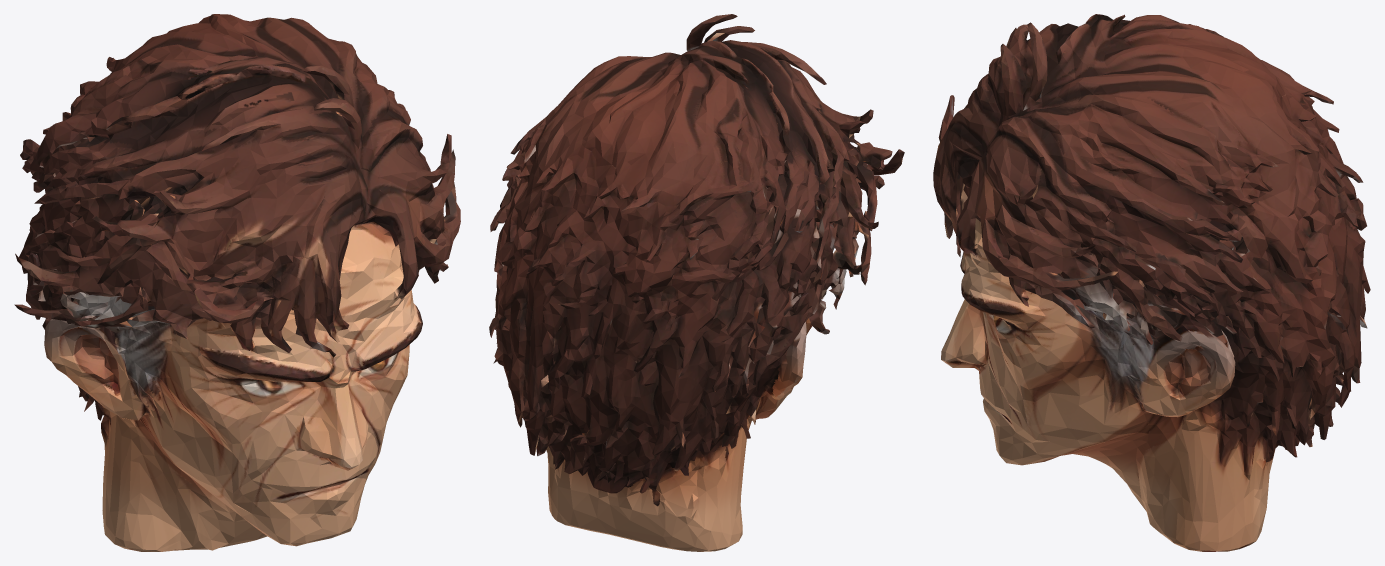
File: side_hidden2_repaired_atlas.glb
3 views of the same model, side by side, from view 1: azimuth 30°, elevation 25°; view 2: azimuth 150°, elevation 25°; view 3: azimuth 270°, elevation 25° (orthographic). The views are drawn at different scales.
Parts seen in each view (by area): view 1: temp_mesh.ply; view 2: temp_mesh.ply; view 3: temp_mesh.ply.
Part boxes in pixels (x1,y1,x2,y2): temp_mesh.ply: [14, 14, 460, 551]; temp_mesh.ply: [489, 14, 904, 551]; temp_mesh.ply: [933, 14, 1370, 551].
Bounding box in the file's own units: 1 × 1.22 × 1.
Materials: 1 (1 with a texture image).
